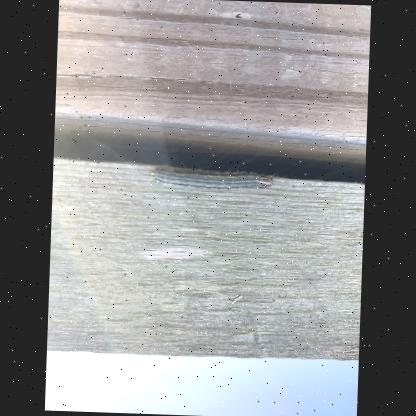Fall Armyworm Larvae: (147, 162, 279, 194)
